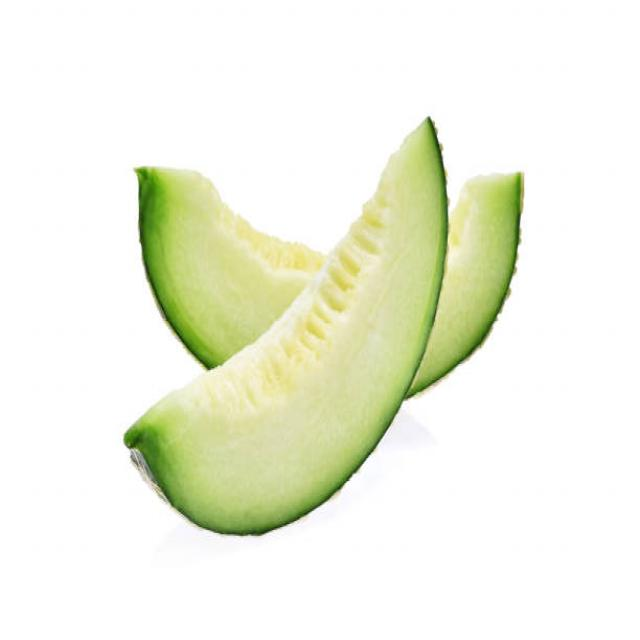melon: (280, 114, 450, 488), (131, 149, 290, 335)
